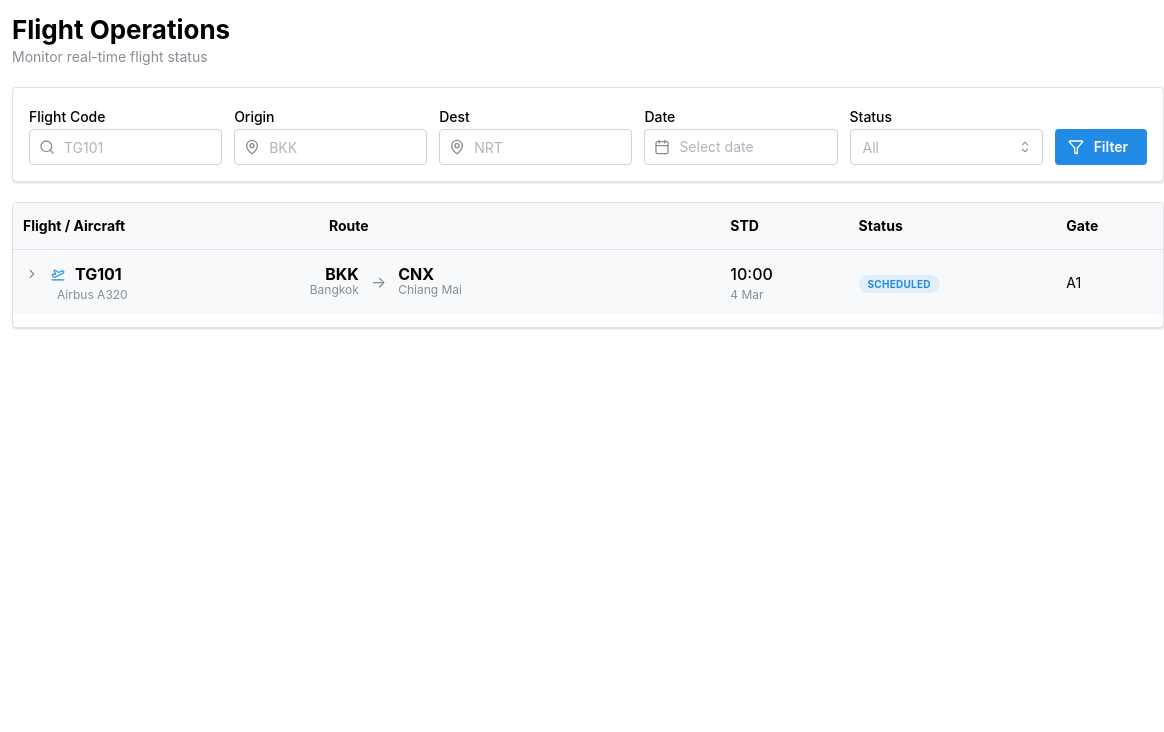
FlightTable Component › expands row when clicked to show details
Click the text "TG101". click: (588, 282)
box: [13,249,1163,316]
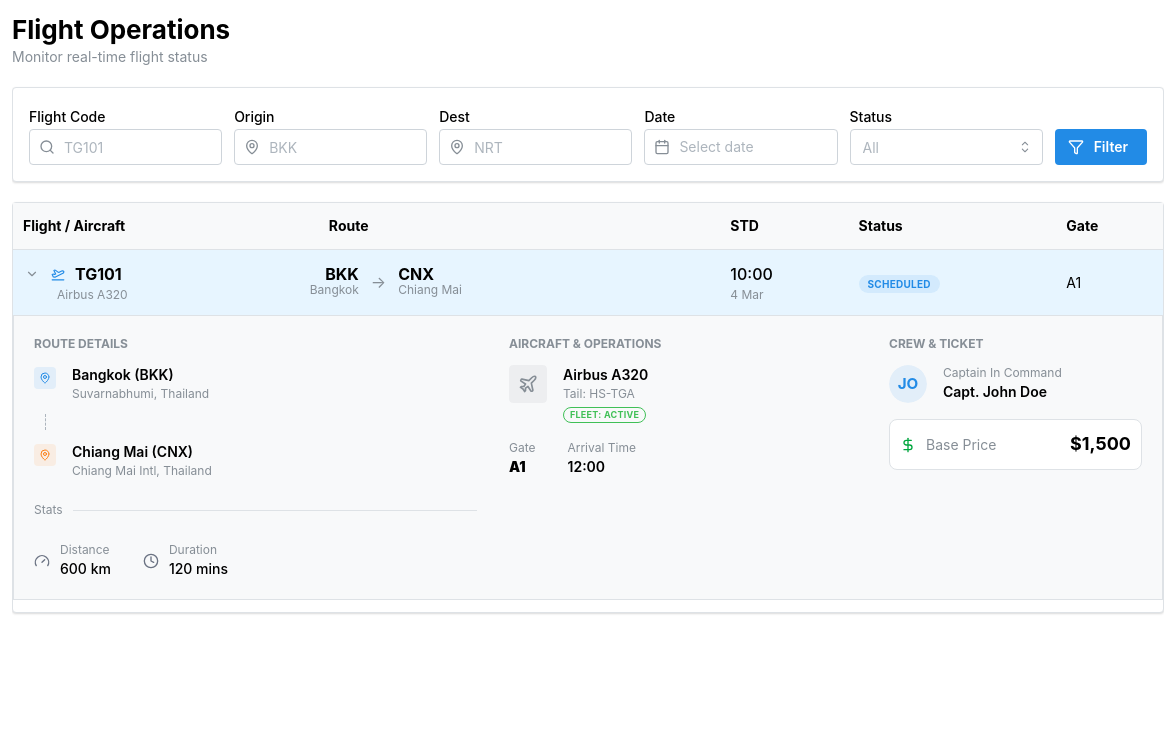
Now the text "Route Details" is shown, box [34,336,128,352]
Now the text "Tail: HS-TGA" is shown, box [563,386,635,401]
Now the text "Capt. John Doe" is shown, box [943,382,1062,402]
